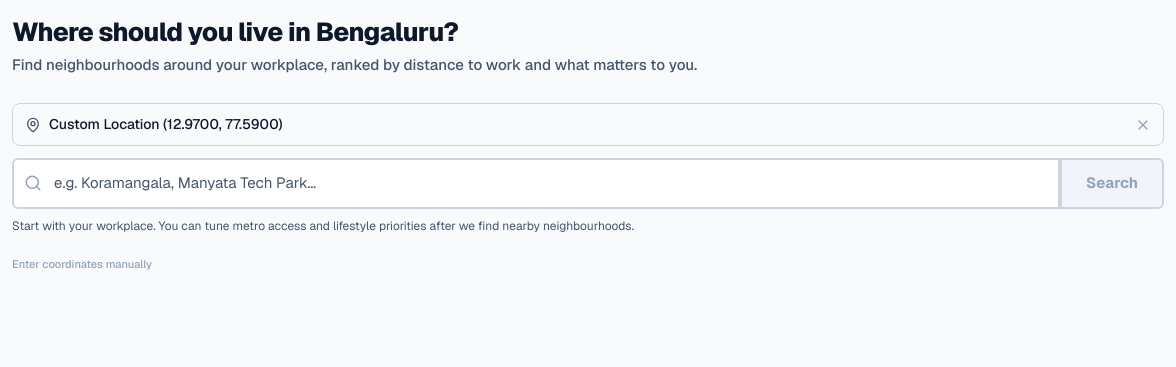
Scenario: WorkLocationInput › Manual Coordinate Input › populates manual fields if state already has coordinates
Click the button "Enter coordinates manually": (82, 264) [12,256,152,273]
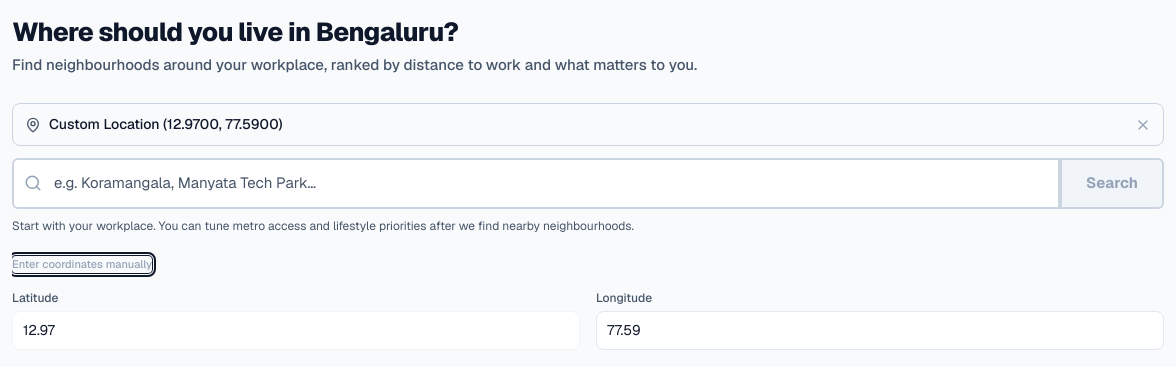
Check: the number field labelled "Latitude" holds "12.97", box [12,311,580,350]
Check: the number field labelled "Longitude" holds "77.59", box [596,311,1164,350]
